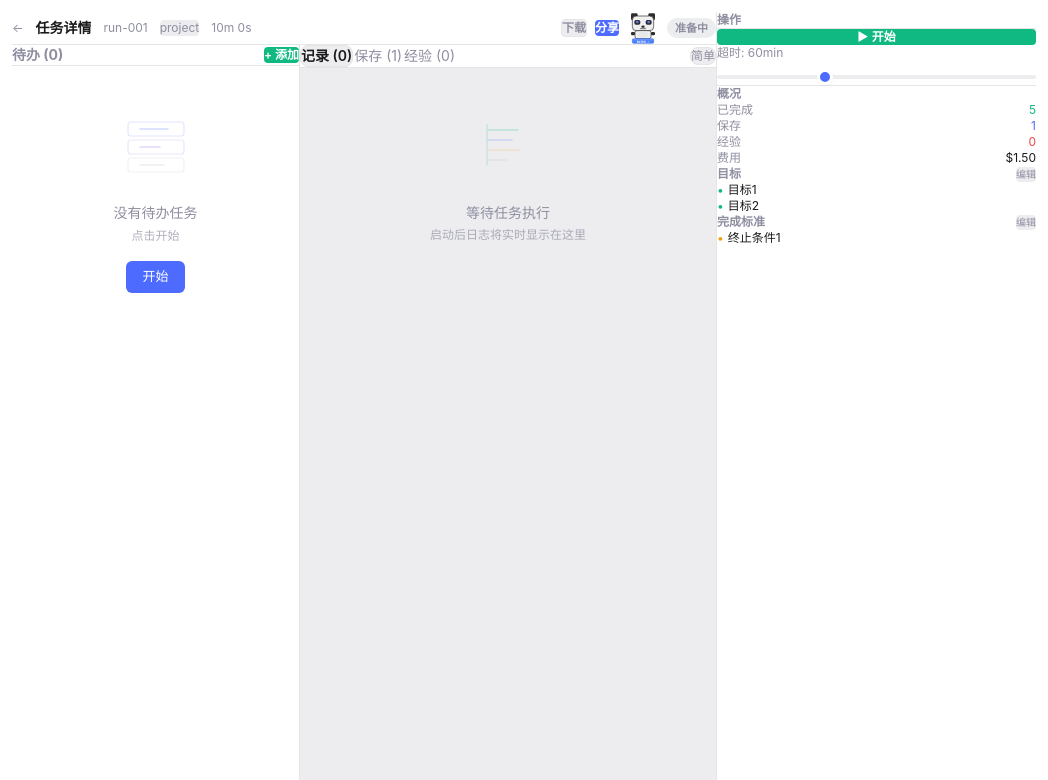
Test: EvolutionDashboard › 切换到提交标签显示提交内容
Step 1. Click the tab "保存 (1)" → (378, 56), box left=353, top=45, right=403, bottom=67
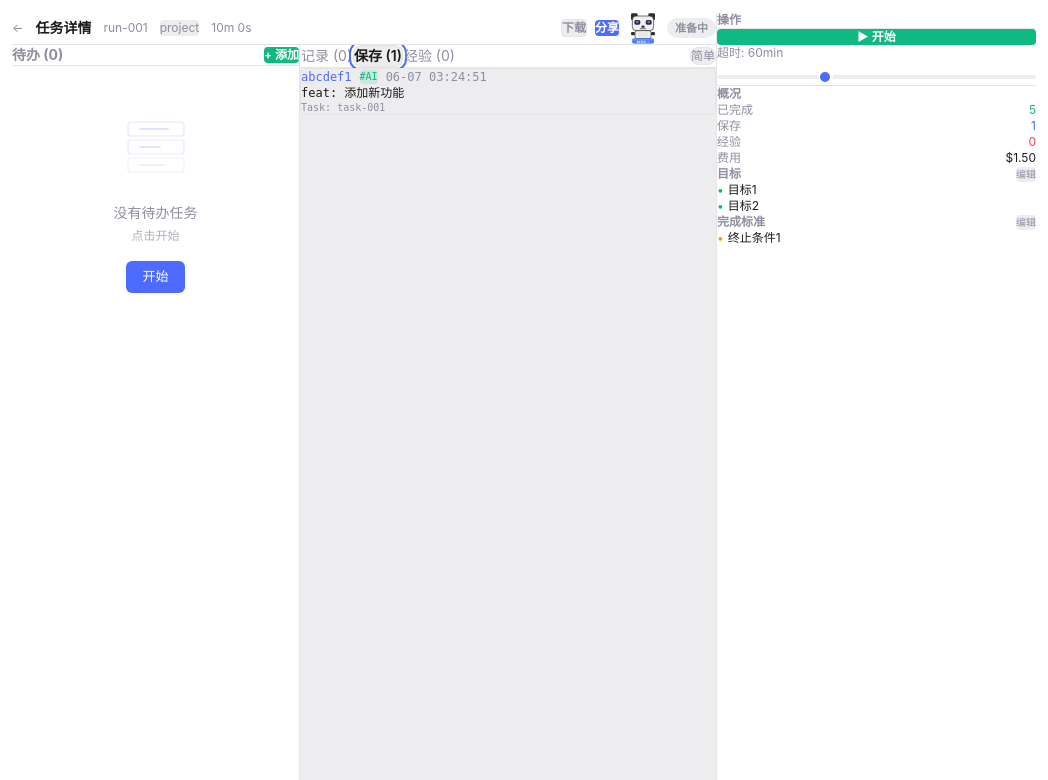
Result: the text "feat: 添加新功能" is shown at left=301, top=86, right=404, bottom=100
Result: the text "#AI" is shown at left=360, top=70, right=378, bottom=84
